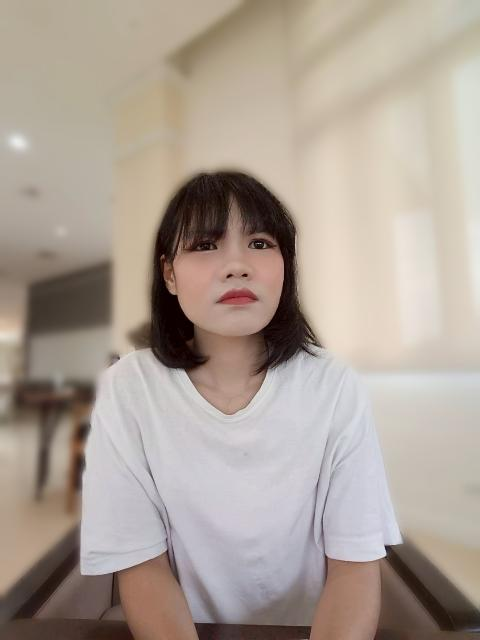fokus: (160, 182, 287, 340)
